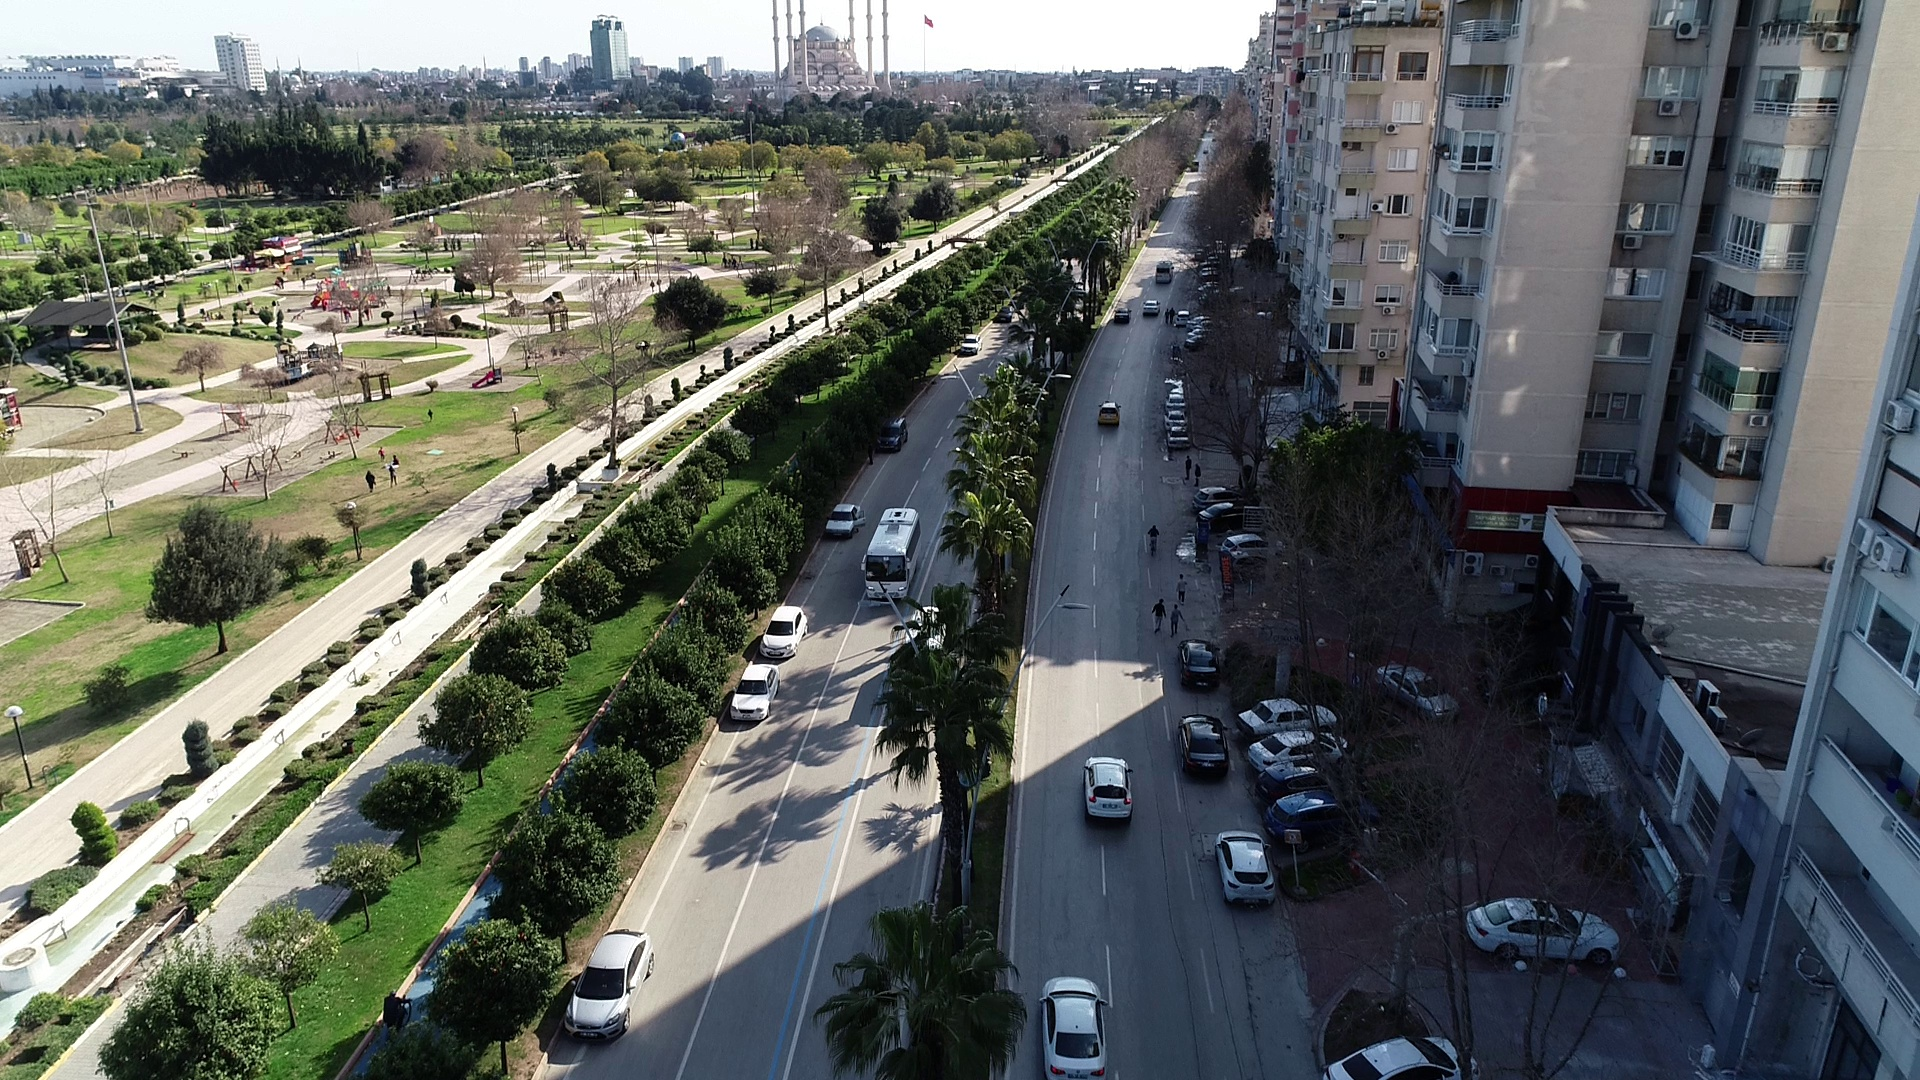bus: (862, 500, 924, 607), (1151, 256, 1179, 287)
car: (561, 923, 660, 1048), (1034, 975, 1115, 1079), (1215, 827, 1280, 919), (1262, 787, 1371, 838), (1082, 752, 1138, 830), (1173, 712, 1233, 785), (724, 661, 786, 729), (1236, 694, 1339, 735), (1246, 731, 1360, 768), (759, 601, 811, 663), (1180, 637, 1226, 695), (1220, 530, 1288, 564), (823, 502, 868, 544), (869, 415, 909, 458), (1095, 401, 1124, 431), (1164, 426, 1193, 451), (955, 333, 982, 358), (1110, 304, 1134, 328), (1163, 393, 1192, 412), (1163, 411, 1194, 428), (1141, 297, 1161, 320), (1175, 304, 1192, 331), (995, 305, 1016, 327)
person: (1147, 596, 1169, 639), (1171, 571, 1192, 604), (1168, 602, 1184, 644), (362, 467, 379, 497), (386, 463, 400, 492), (373, 443, 389, 462), (1192, 460, 1201, 488), (424, 407, 436, 424), (1184, 454, 1191, 484), (1169, 305, 1178, 326), (1163, 306, 1171, 328)
